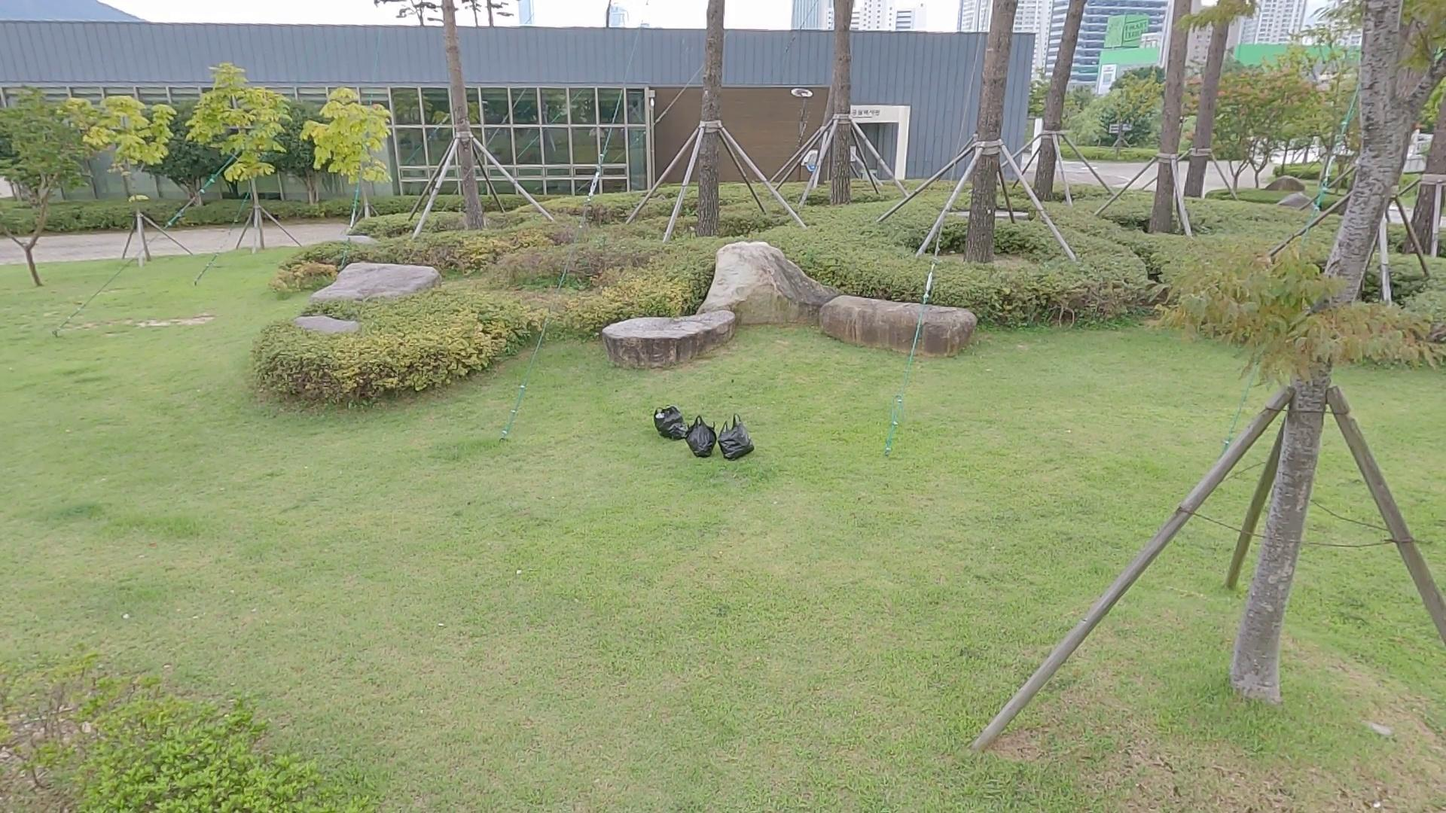trash: (719, 413, 756, 460), (686, 416, 718, 458), (654, 406, 689, 440)
